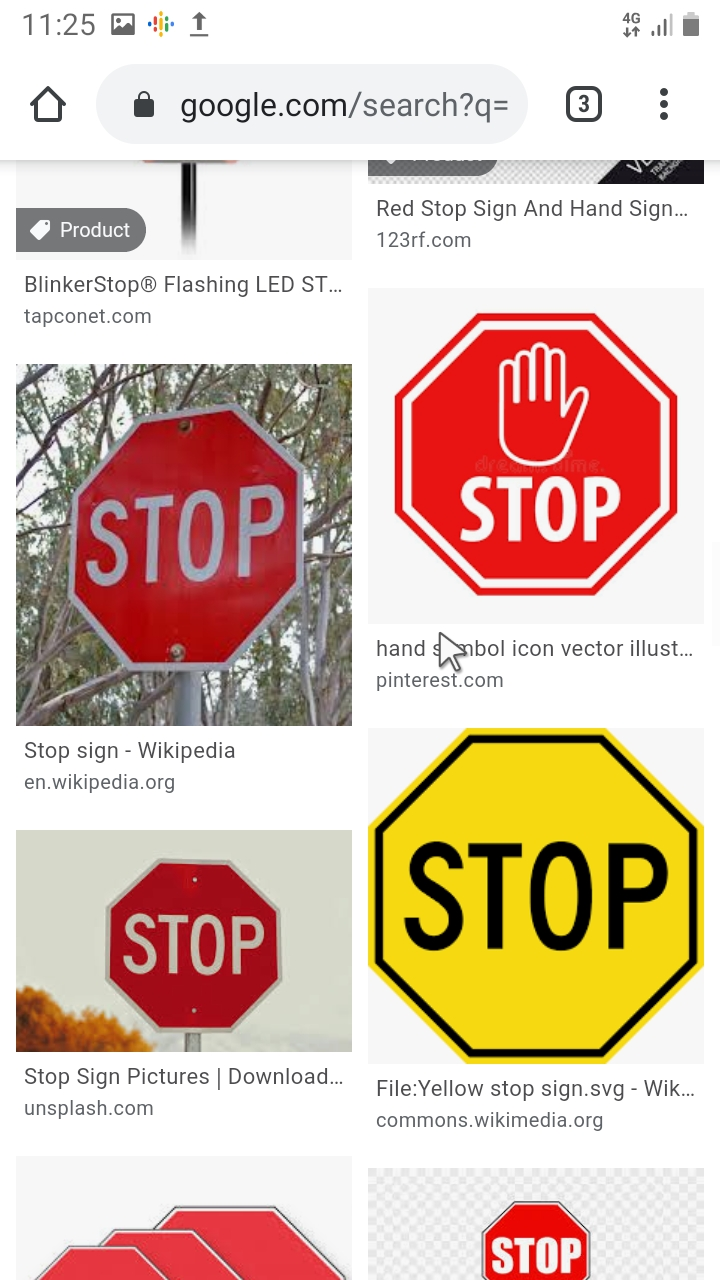stop: (366, 723, 704, 1063), (53, 394, 333, 684), (78, 855, 288, 1037), (427, 465, 649, 586), (461, 1188, 600, 1280)
